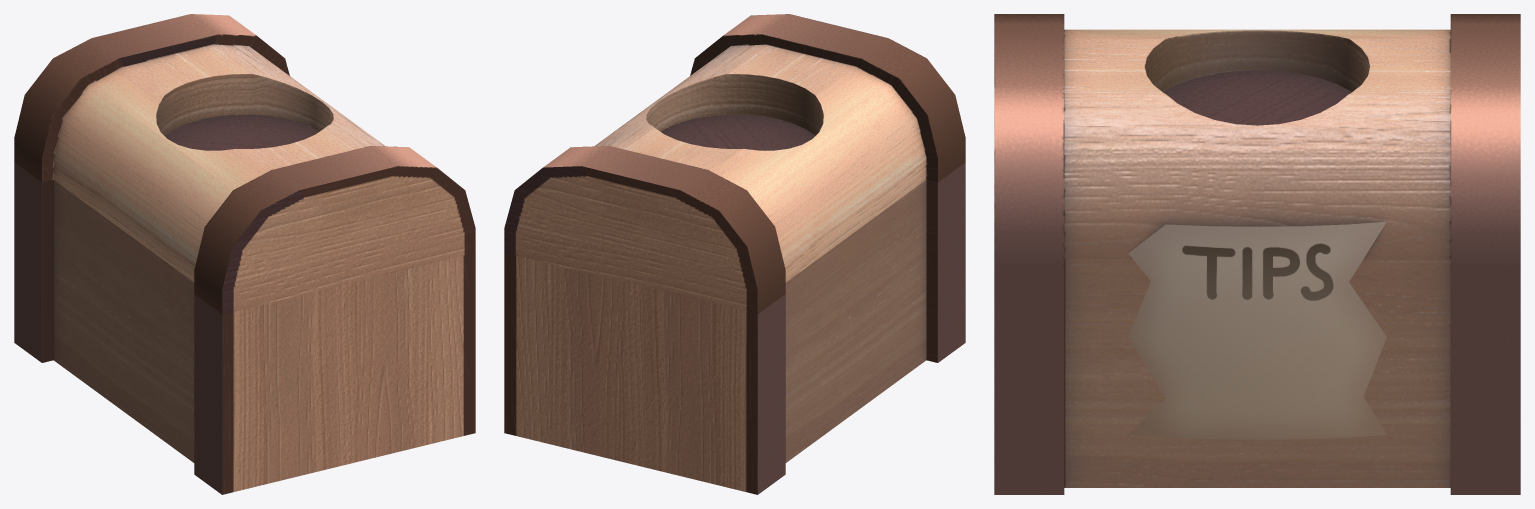
The model's file is tips_4.fbx.
3 views of the same model, side by side, from view 1: azimuth 30°, elevation 25°; view 2: azimuth 150°, elevation 25°; view 3: azimuth 270°, elevation 25° (orthographic). The views are drawn at different scales.
Visible parts, largest first — view 1: Cube, Cube.001; view 2: Cube, Cube.001; view 3: Cube.001, Cube, list.
Boxes of the visible parts, x1,y1,x2,y2 form: Cube: (14, 162, 475, 494); Cube.001: (14, 14, 475, 314); Cube: (504, 162, 965, 494); Cube.001: (504, 14, 965, 314); Cube.001: (994, 14, 1520, 266); Cube: (994, 259, 1520, 494); list: (1128, 221, 1386, 439).
Size of the model in its own units: 2.2 by 2.37 by 3.12.
